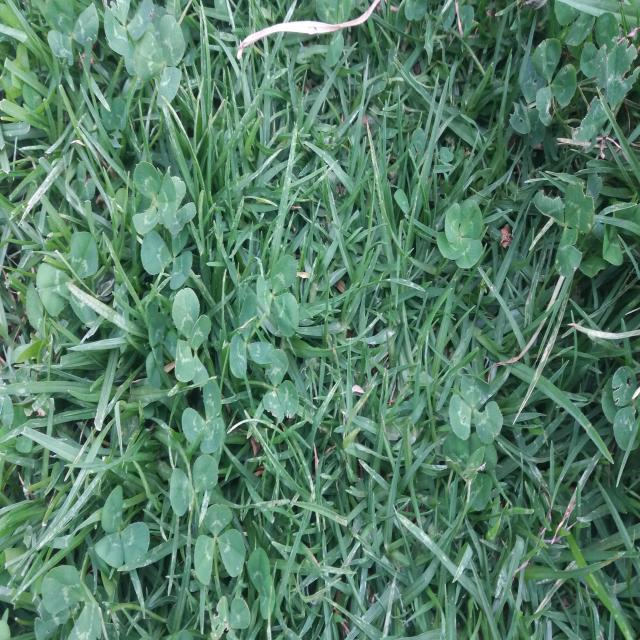Four Leaf Clover: (437, 199, 483, 269)
